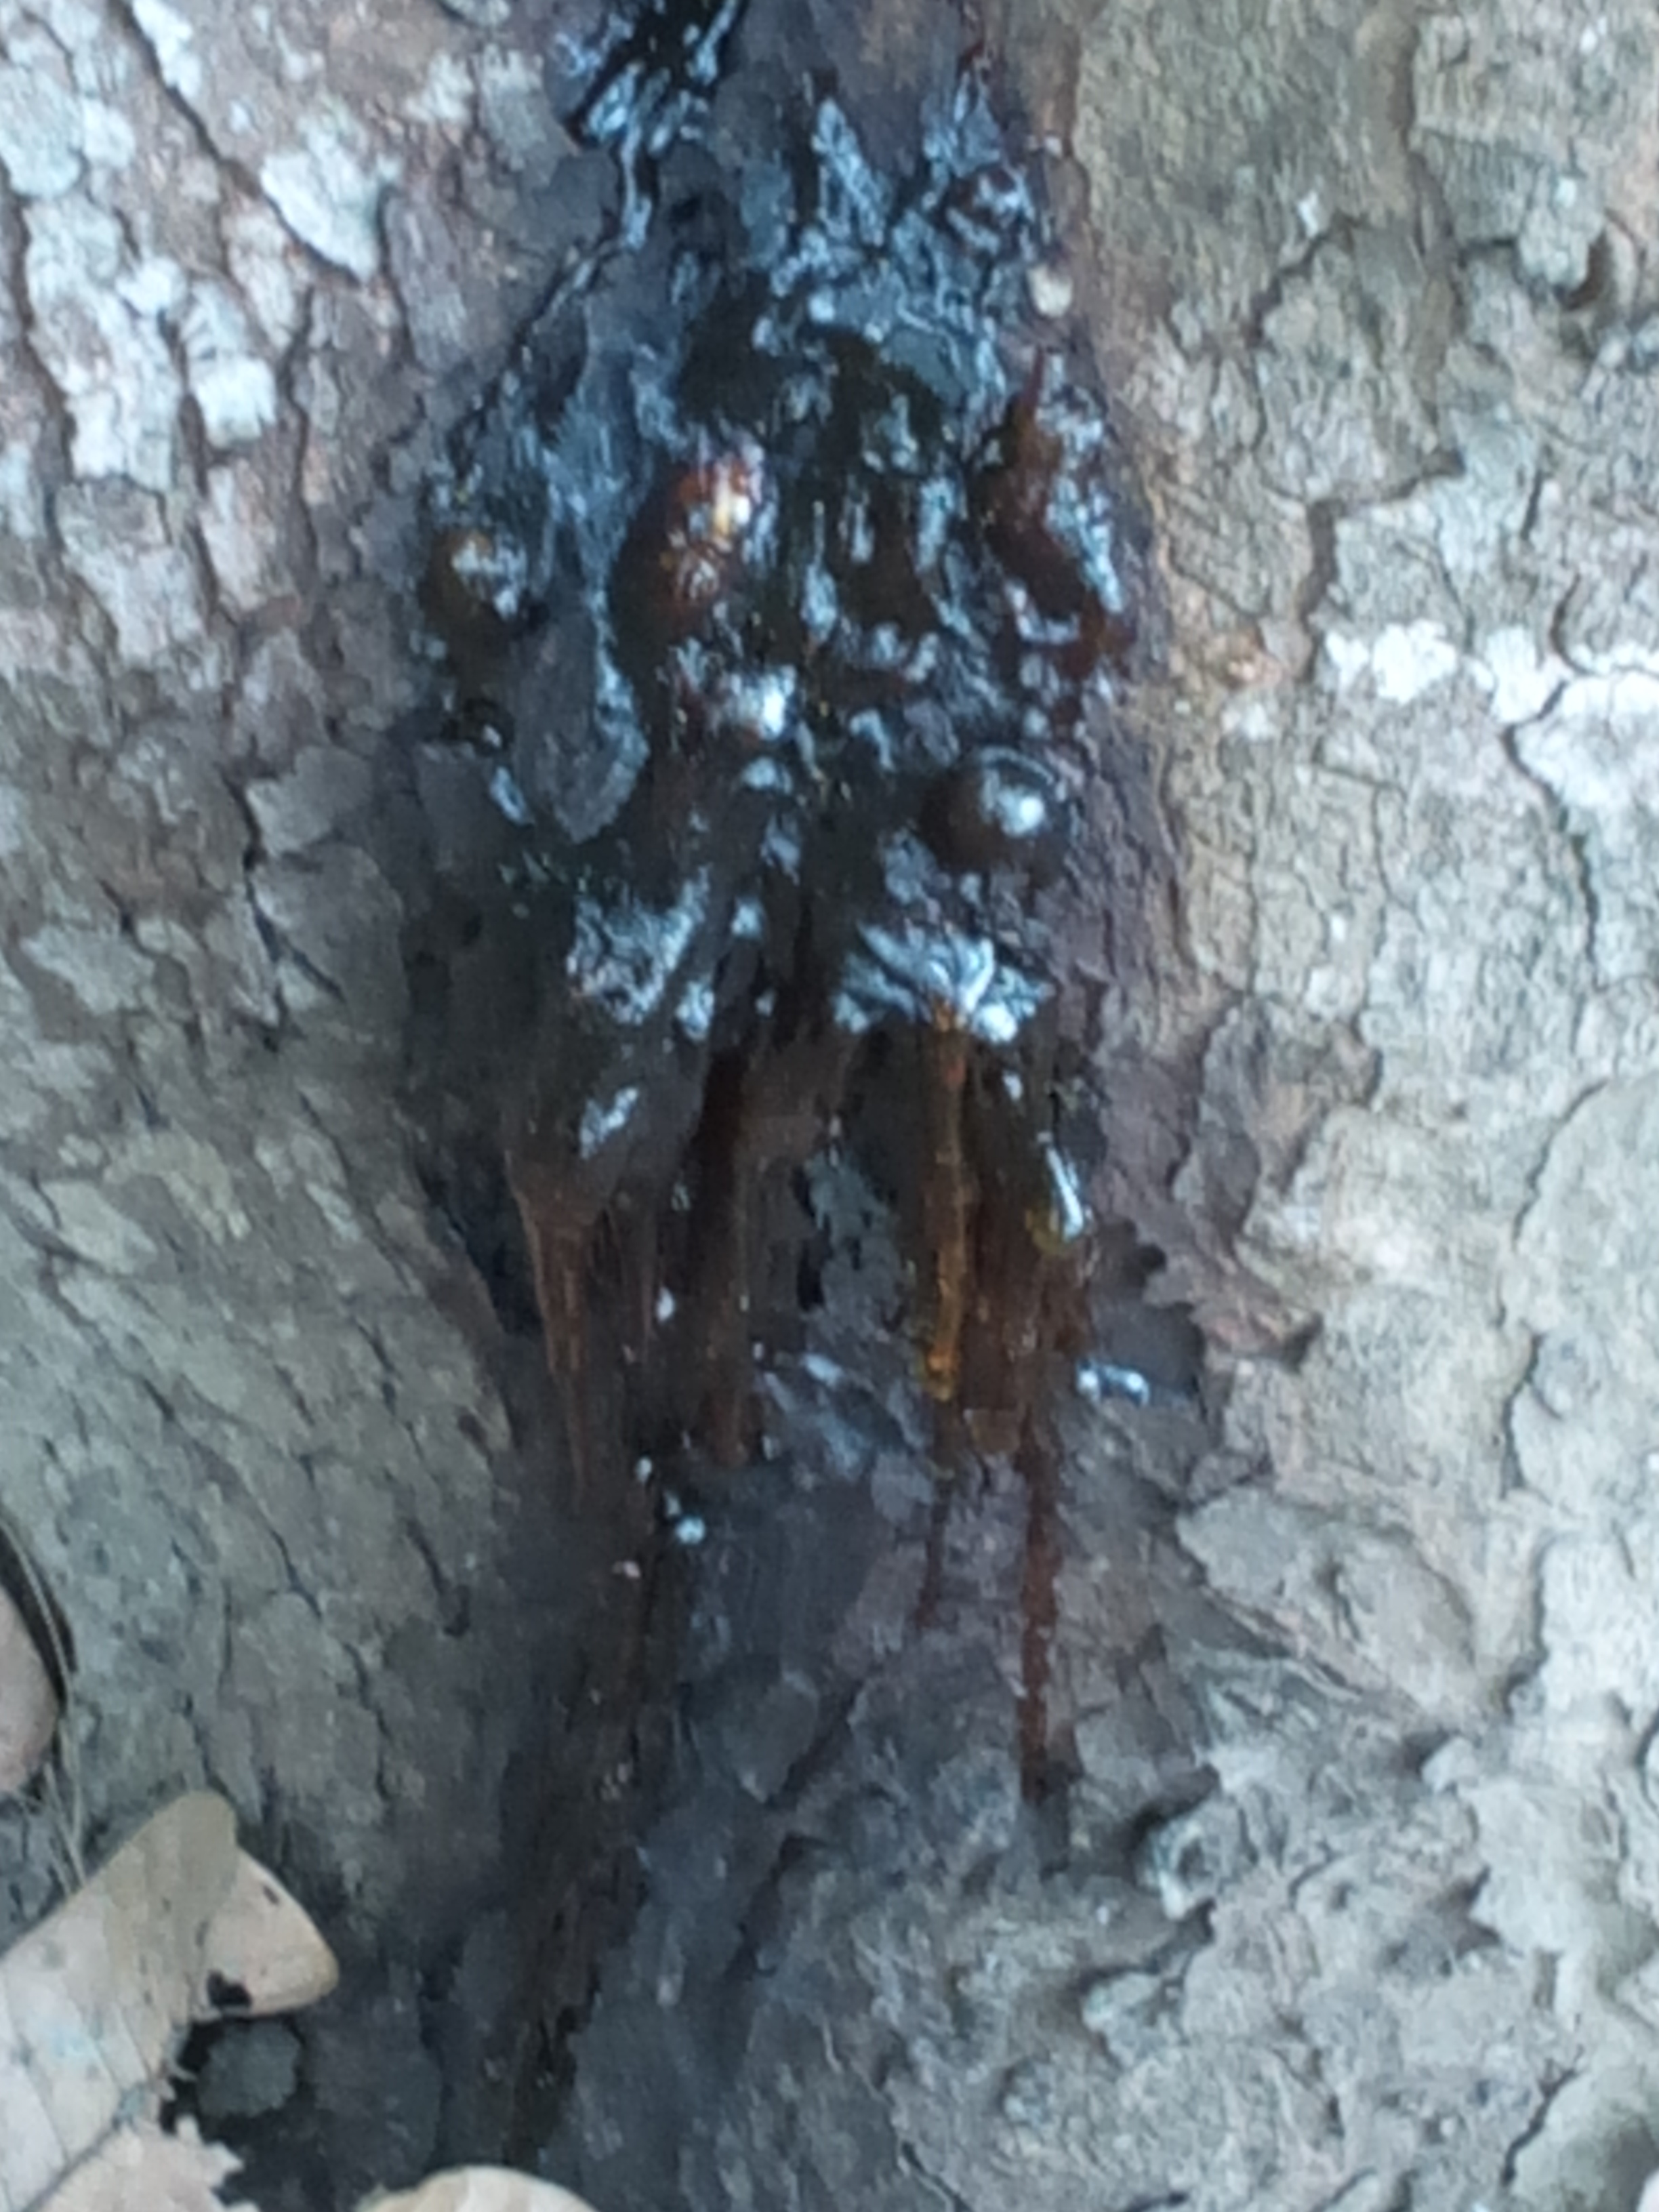Mecocorynus longiceps: (209, 21, 1317, 1655)
